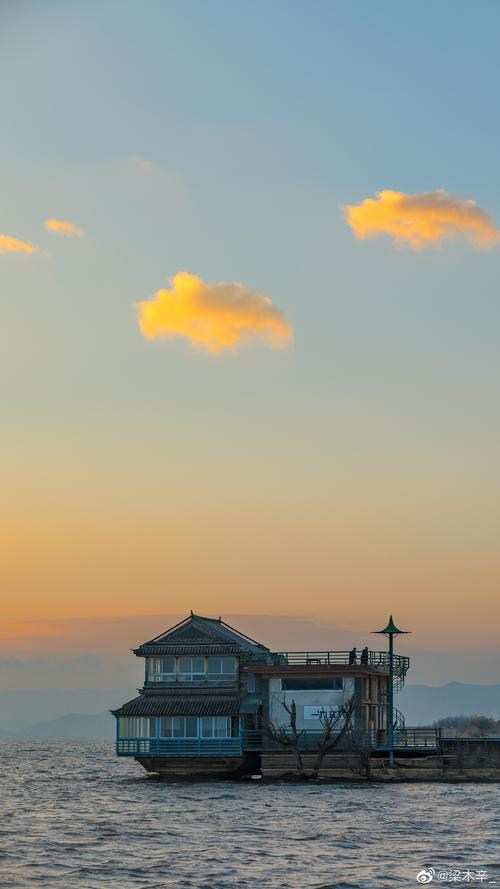buildings: (126, 598, 323, 765)
sea_river: (21, 741, 451, 879)
